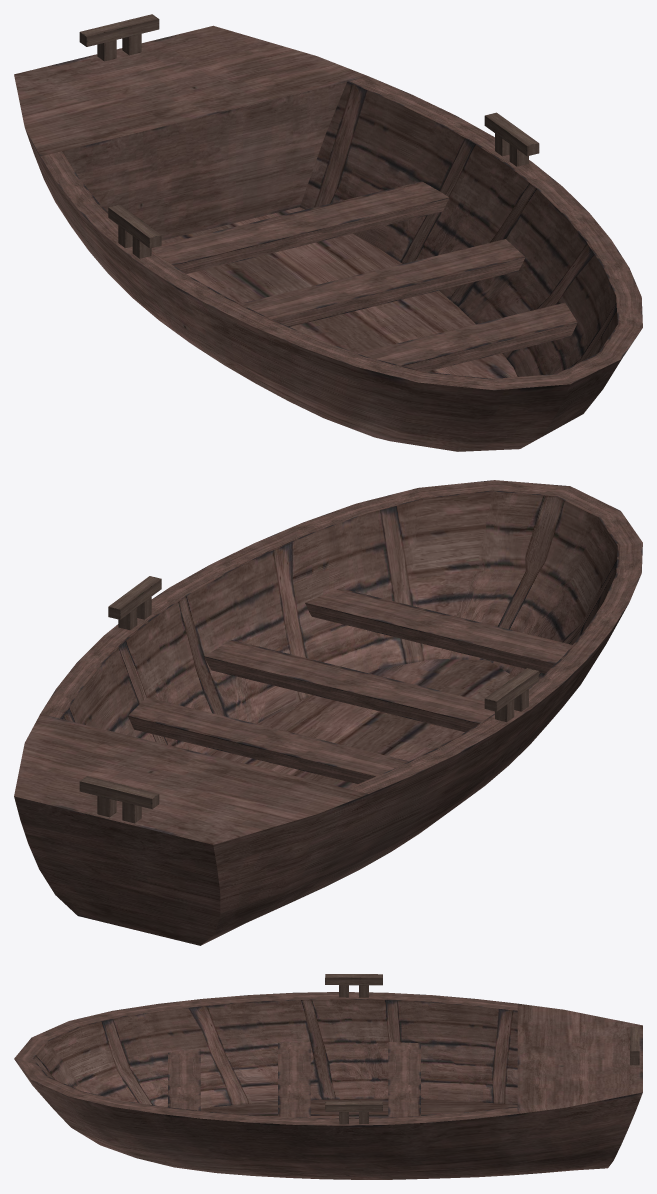
The model's file is Dock_Boat_A_2.gltf.
3 views of the same model, one above another, from view 1: azimuth 30°, elevation 25°; view 2: azimuth 150°, elevation 25°; view 3: azimuth 270°, elevation 25° (orthographic). The views are drawn at different scales.
Parts seen in each view (by area): view 1: Dock_Boat_A_2; view 2: Dock_Boat_A_2; view 3: Dock_Boat_A_2.
Part boxes in pixels (bbox=[...]): Dock_Boat_A_2: bbox=[14, 14, 642, 451]; Dock_Boat_A_2: bbox=[14, 480, 642, 945]; Dock_Boat_A_2: bbox=[14, 974, 642, 1179].
Bounding box in the file's own units: 1.76 × 0.6666 × 3.5.
Materials: 2 (2 with a texture image).
